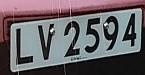2: (61, 18, 81, 60)
4: (120, 10, 138, 51)
5: (83, 13, 101, 57)
9: (101, 12, 120, 54)
L: (13, 23, 34, 66)
V: (34, 21, 56, 63)
